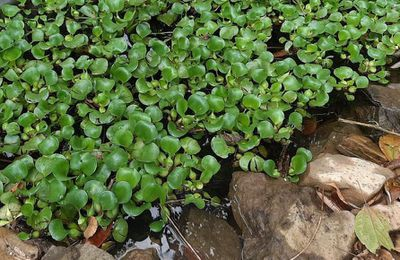water_hyacinth: (0, 1, 400, 233)
